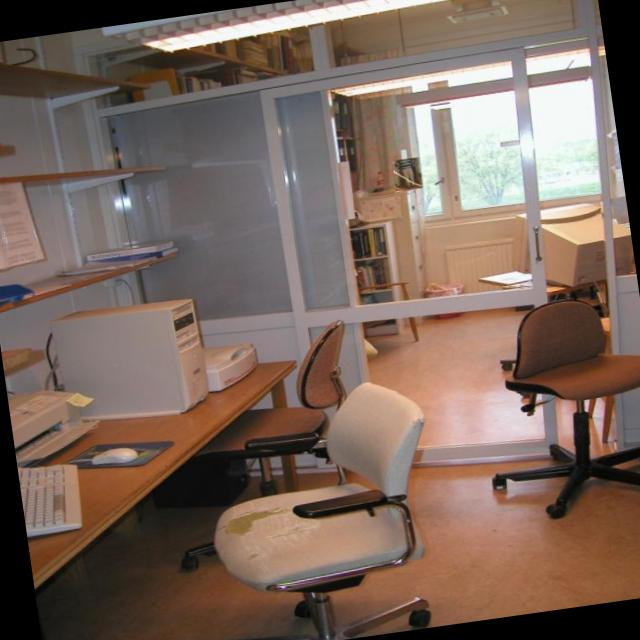2001: (411, 52, 605, 220)
book case: (0, 286, 36, 306), (4, 348, 35, 367)
books crop: (195, 27, 318, 72), (130, 68, 283, 100), (64, 240, 177, 274), (351, 260, 393, 292), (348, 228, 388, 259)
bookshelf: (349, 222, 405, 336)
ceiling beam: (335, 0, 575, 54)
chair -occluded-: (216, 382, 436, 640), (491, 302, 640, 519), (197, 322, 350, 496)
computer crop: (51, 299, 214, 417)
curtain crop: (339, 47, 414, 191)
door bars: (275, 57, 546, 456)
filing cabinet: (357, 188, 428, 325)
floor -X: (39, 453, 640, 640), (364, 309, 546, 446)
keyboard crop: (19, 464, 81, 538)
light fixture: (102, 0, 459, 47), (331, 44, 605, 100)
monitor crop: (514, 202, 634, 288)
mouse: (66, 441, 175, 469)
mouse pad: (94, 447, 138, 465)
paper cup with straws: (0, 182, 51, 271)
papers: (479, 270, 531, 286)
post it note: (63, 393, 100, 406)
printer: (9, 390, 102, 465)
scanner: (198, 341, 262, 393)
shelf crop: (0, 251, 181, 315), (0, 61, 148, 108), (103, 47, 290, 75), (0, 166, 163, 197), (7, 347, 50, 378), (0, 143, 17, 157)
trash compactor: (424, 281, 464, 319)
wall clock: (102, 91, 300, 360)
